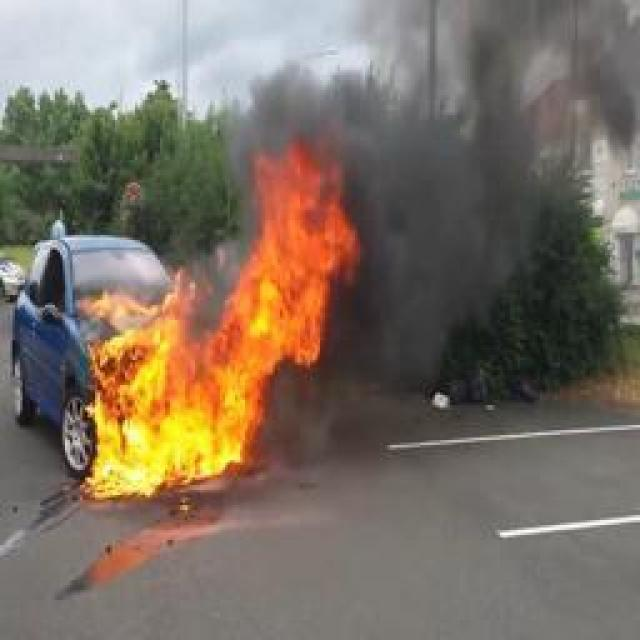Fire: (81, 128, 361, 496)
